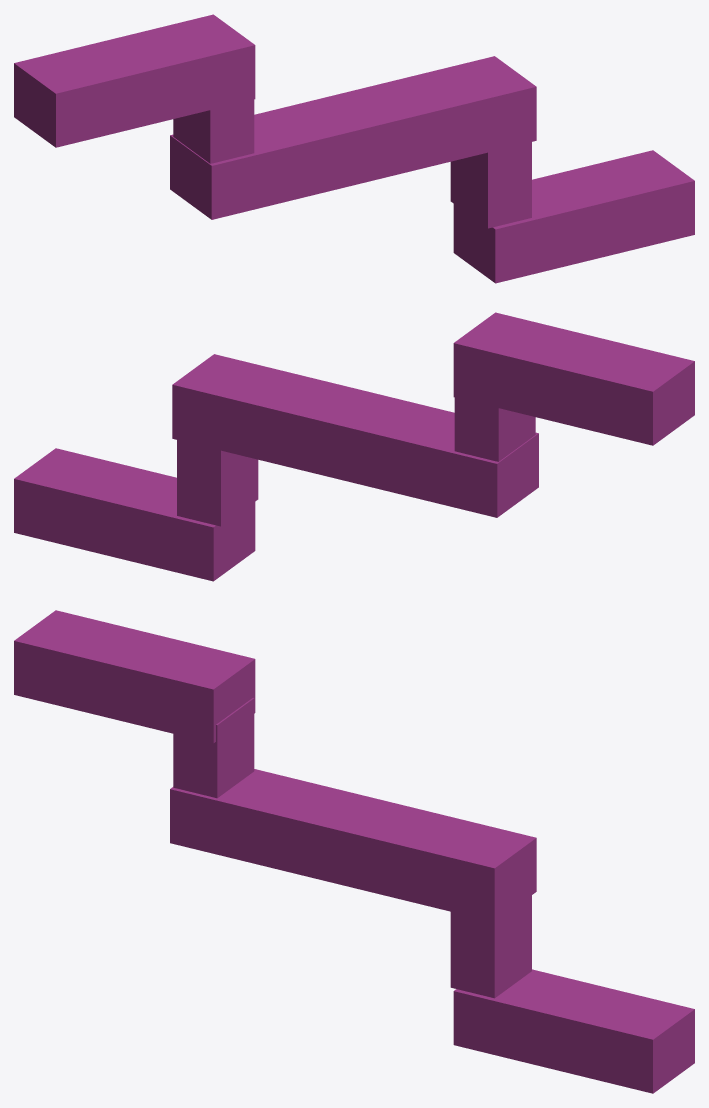
The model's file is SM_Veh_Scoop_01_Pedal_L_01_Collision.fbx.
3 renders of one model, top to bottom at view 1: azimuth 30°, elevation 25°; view 2: azimuth 150°, elevation 25°; view 3: azimuth 330°, elevation 25°, orthographic.
Parts seen in each view (by area): view 1: SM_Veh_Scoop_01_Pedal_L_01_Collision; view 2: SM_Veh_Scoop_01_Pedal_L_01_Collision; view 3: SM_Veh_Scoop_01_Pedal_L_01_Collision.
Boxes of the visible parts, left/top/right/bottom form: SM_Veh_Scoop_01_Pedal_L_01_Collision: left=14, top=14, right=694, bottom=283; SM_Veh_Scoop_01_Pedal_L_01_Collision: left=14, top=312, right=694, bottom=581; SM_Veh_Scoop_01_Pedal_L_01_Collision: left=14, top=610, right=694, bottom=1093.
Size of the model in its own units: 54.51 by 24.2 by 6.18.
